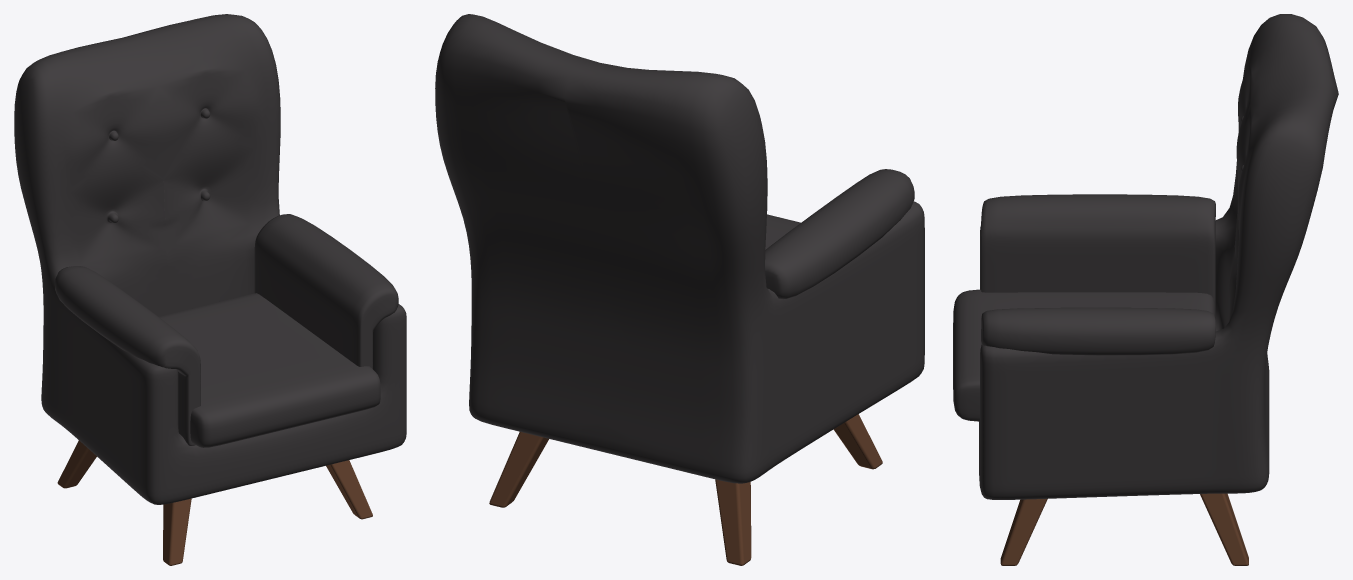
The model's file is armchair.glb.
3 renders of one model, left to right at view 1: azimuth 30°, elevation 25°; view 2: azimuth 150°, elevation 25°; view 3: azimuth 270°, elevation 25°, orthographic. The views are drawn at different scales.
Parts seen in each view (by area): view 1: Plane, Plane.002, Plane.001, legs; view 2: Plane, Plane.002, legs, Plane.001; view 3: Plane, Plane.002, Plane.001, legs.
Part boxes in pixels (x1,y1,x2,y2): Plane: [14, 14, 406, 504]; Plane.002: [54, 214, 398, 445]; Plane.001: [158, 293, 380, 447]; legs: [57, 440, 372, 565]; Plane: [435, 14, 924, 483]; Plane.002: [765, 169, 914, 299]; legs: [489, 414, 882, 565]; Plane.001: [765, 214, 800, 249]; Plane: [979, 14, 1338, 499]; Plane.002: [981, 194, 1215, 355]; Plane.001: [953, 289, 1215, 421]; legs: [1000, 493, 1248, 565].
Bounding box in the file's own units: 2.25 × 3.37 × 2.64.
